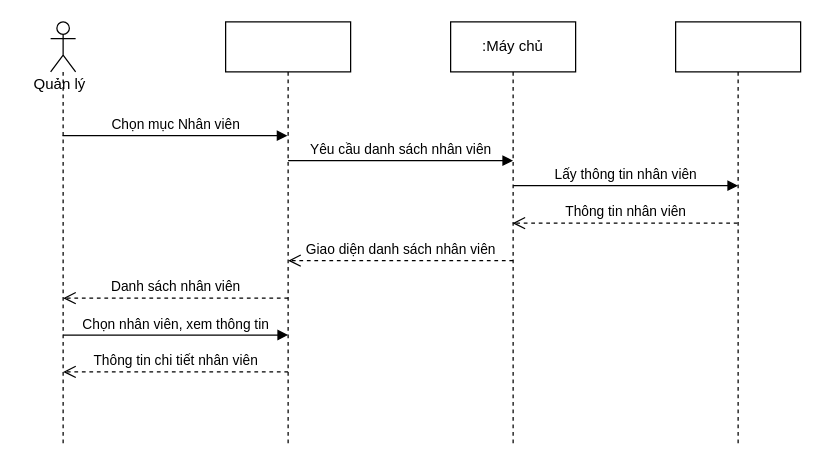
This 823x469 diagram has some shape labels left out. The box of each missing label's shape, as (x1, y1, x2, y2) in pixels:
:Dữ liệu nhân viên: (674, 21, 801, 447)
:Giao diện web: (224, 21, 351, 447)
